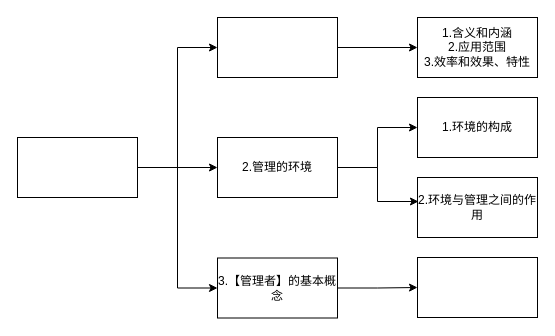
The diagram is 555 pixels wide and 336 high, and some of its shapes have lost their labels. Here are the shapes that lost their labels. From the top down, the centre of each, then its label:
(277,47): 1.管理的基本概念
(77,167): 管理总论
(477,287): 1.管理者及其分类 2.管理者的角色 3.管理者的技能要求
